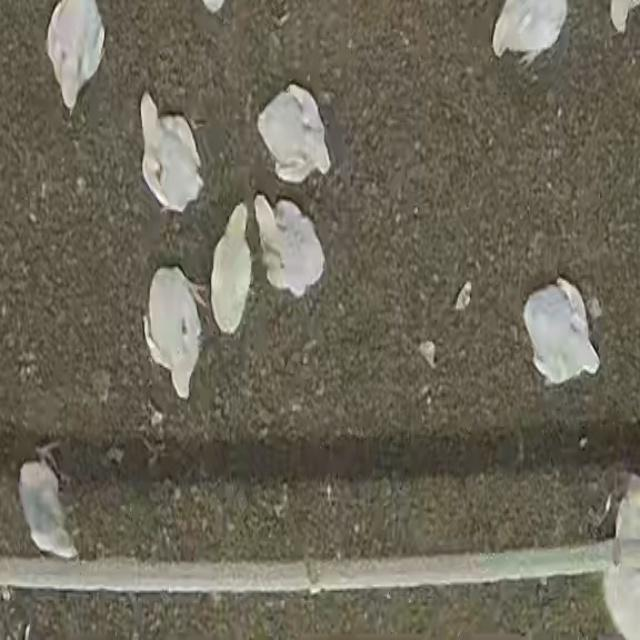chicken: (522, 279, 599, 385), (143, 267, 204, 399), (138, 93, 204, 213), (256, 196, 324, 298), (18, 446, 78, 560), (46, 2, 106, 112), (260, 87, 329, 181), (606, 473, 640, 640), (210, 203, 253, 333), (492, 0, 571, 67)
